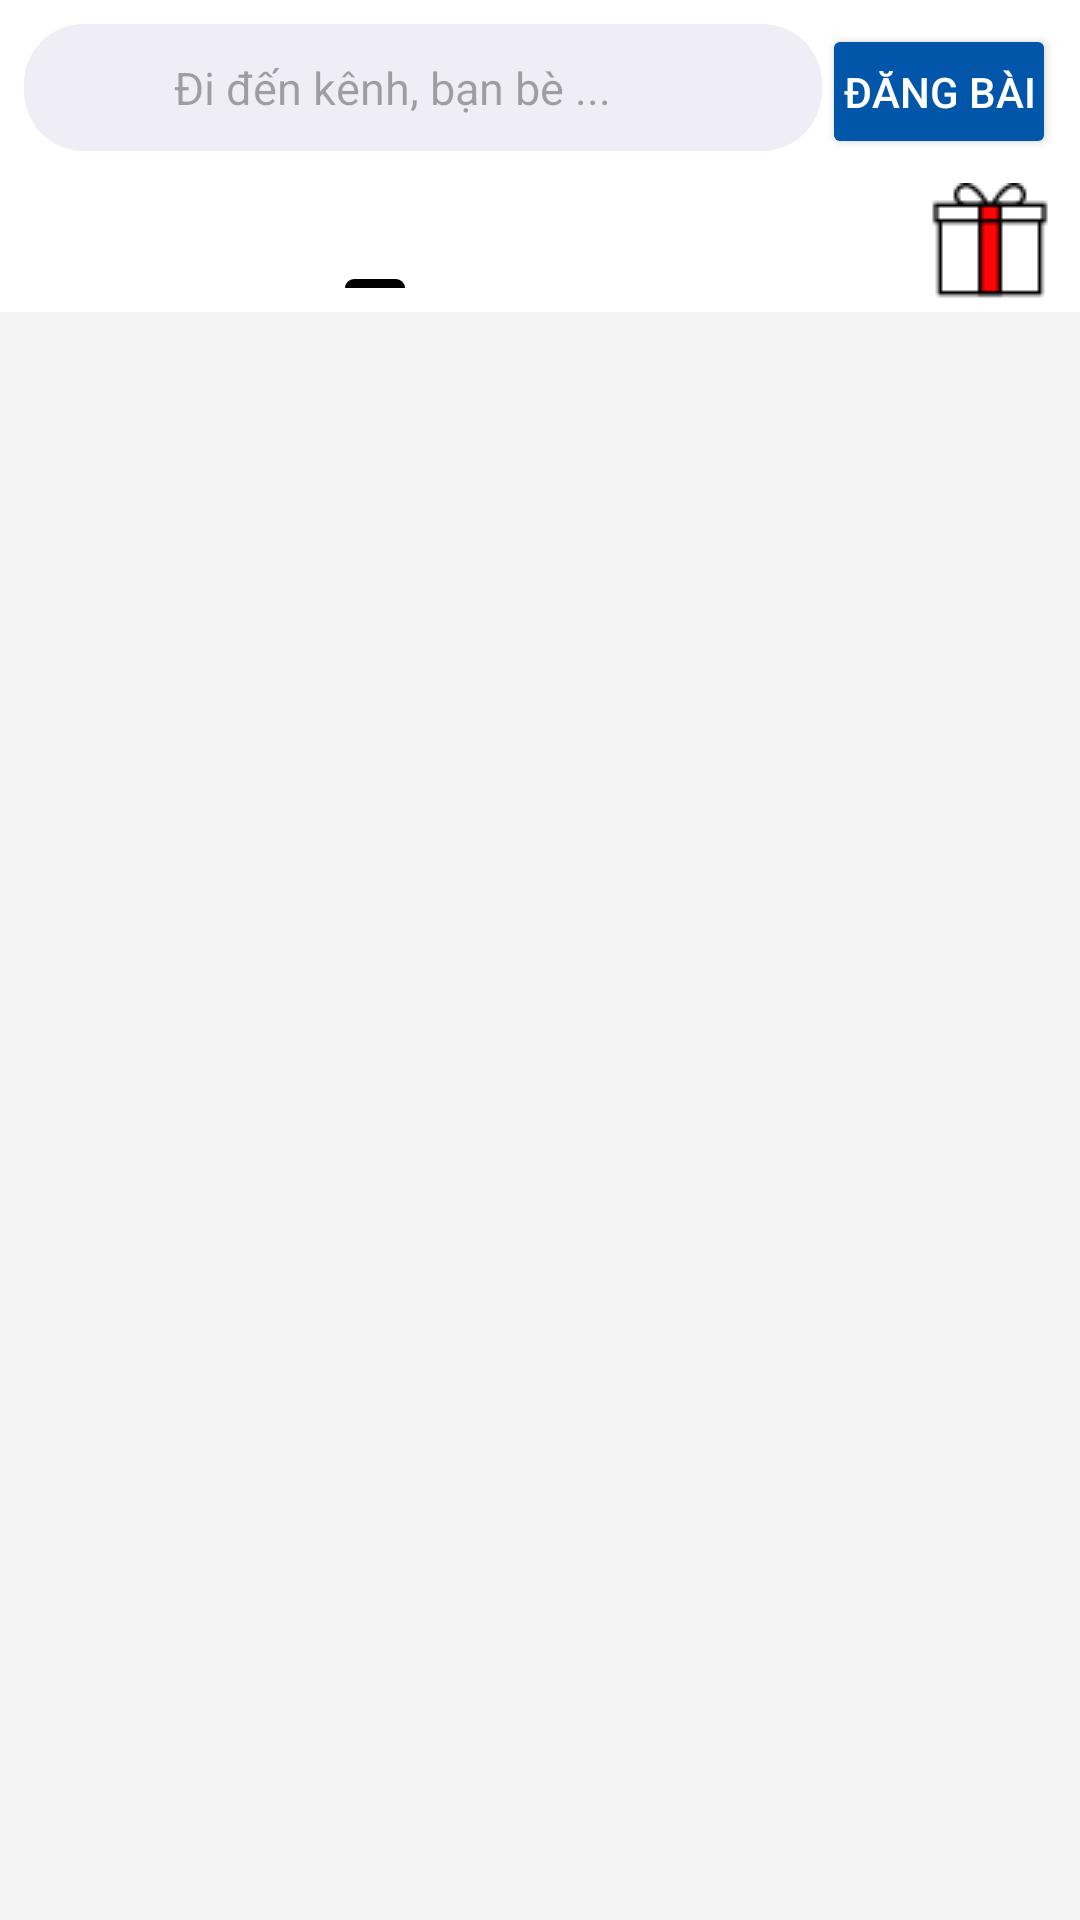

Icon click points for this 1080*1920 phone screenshot, format point (x, y):
gift: point (990, 240)
